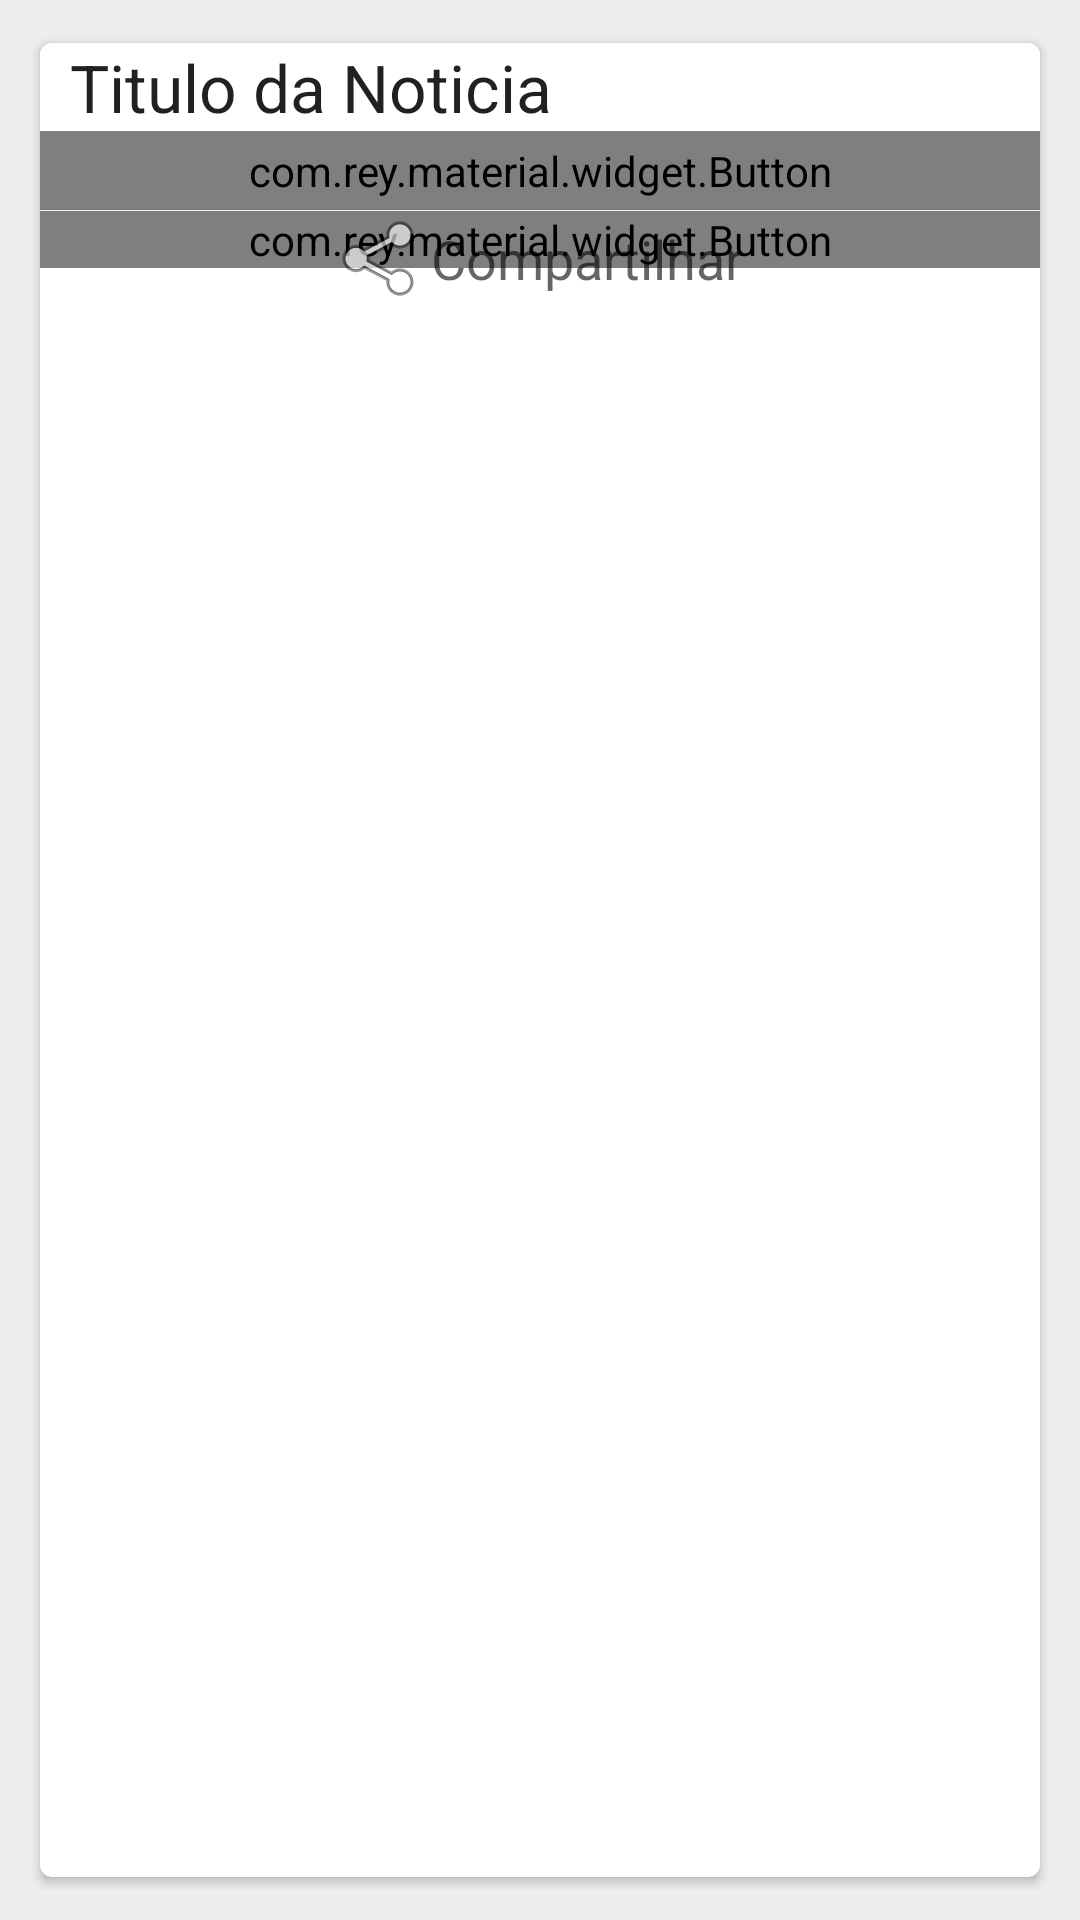

Point at icon controls on the screen. Image size 1080×1920, points as (x,y).
share: (383,259)
